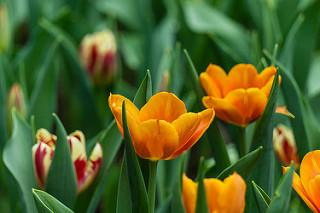tulip: (109, 93, 210, 161), (200, 62, 291, 123), (181, 172, 247, 213), (82, 26, 119, 84)
